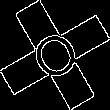O_SE: (24, 22, 86, 88)
